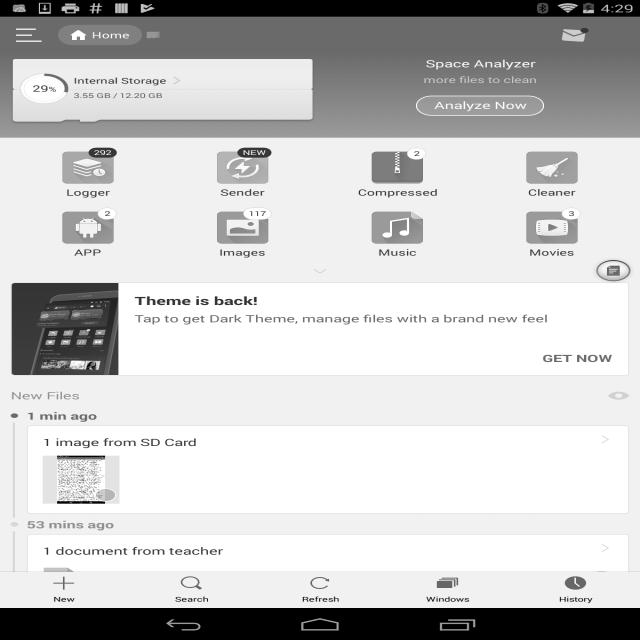Button: (426, 576, 469, 604), (301, 576, 339, 604), (175, 576, 208, 604), (559, 576, 592, 604), (53, 576, 75, 604)
CheckBox: (575, 564, 628, 591), (79, 478, 119, 504)
ImageView: (12, 283, 118, 375), (42, 456, 120, 504), (0, 569, 640, 572), (526, 152, 578, 184), (526, 212, 578, 244), (63, 152, 114, 184), (217, 152, 268, 184), (372, 152, 423, 184), (63, 212, 114, 244), (217, 212, 268, 244), (372, 212, 423, 244), (597, 382, 640, 409), (42, 568, 74, 588), (16, 27, 42, 43), (563, 28, 587, 42), (70, 30, 86, 40), (146, 31, 160, 39), (314, 268, 326, 276), (600, 436, 612, 444), (600, 544, 612, 552), (579, 28, 587, 33), (11, 413, 18, 418), (11, 522, 18, 527)
TextView: (135, 325, 612, 365), (0, 388, 597, 402), (135, 293, 612, 308), (135, 312, 612, 325), (86, 571, 534, 584), (331, 57, 629, 70), (331, 74, 629, 86), (416, 96, 544, 116), (43, 544, 223, 558), (43, 435, 197, 449), (120, 91, 312, 100), (74, 75, 184, 86), (27, 518, 114, 531), (27, 409, 97, 423), (358, 188, 438, 198), (92, 29, 142, 41), (528, 188, 575, 198), (219, 248, 266, 258), (220, 188, 265, 198), (529, 248, 574, 258), (66, 188, 110, 198), (543, 571, 575, 584), (378, 248, 417, 258), (243, 208, 272, 220), (238, 148, 272, 158), (74, 91, 111, 100), (88, 148, 117, 158), (74, 248, 101, 258), (407, 148, 426, 160), (98, 208, 116, 220), (562, 208, 580, 220), (113, 91, 117, 100)
